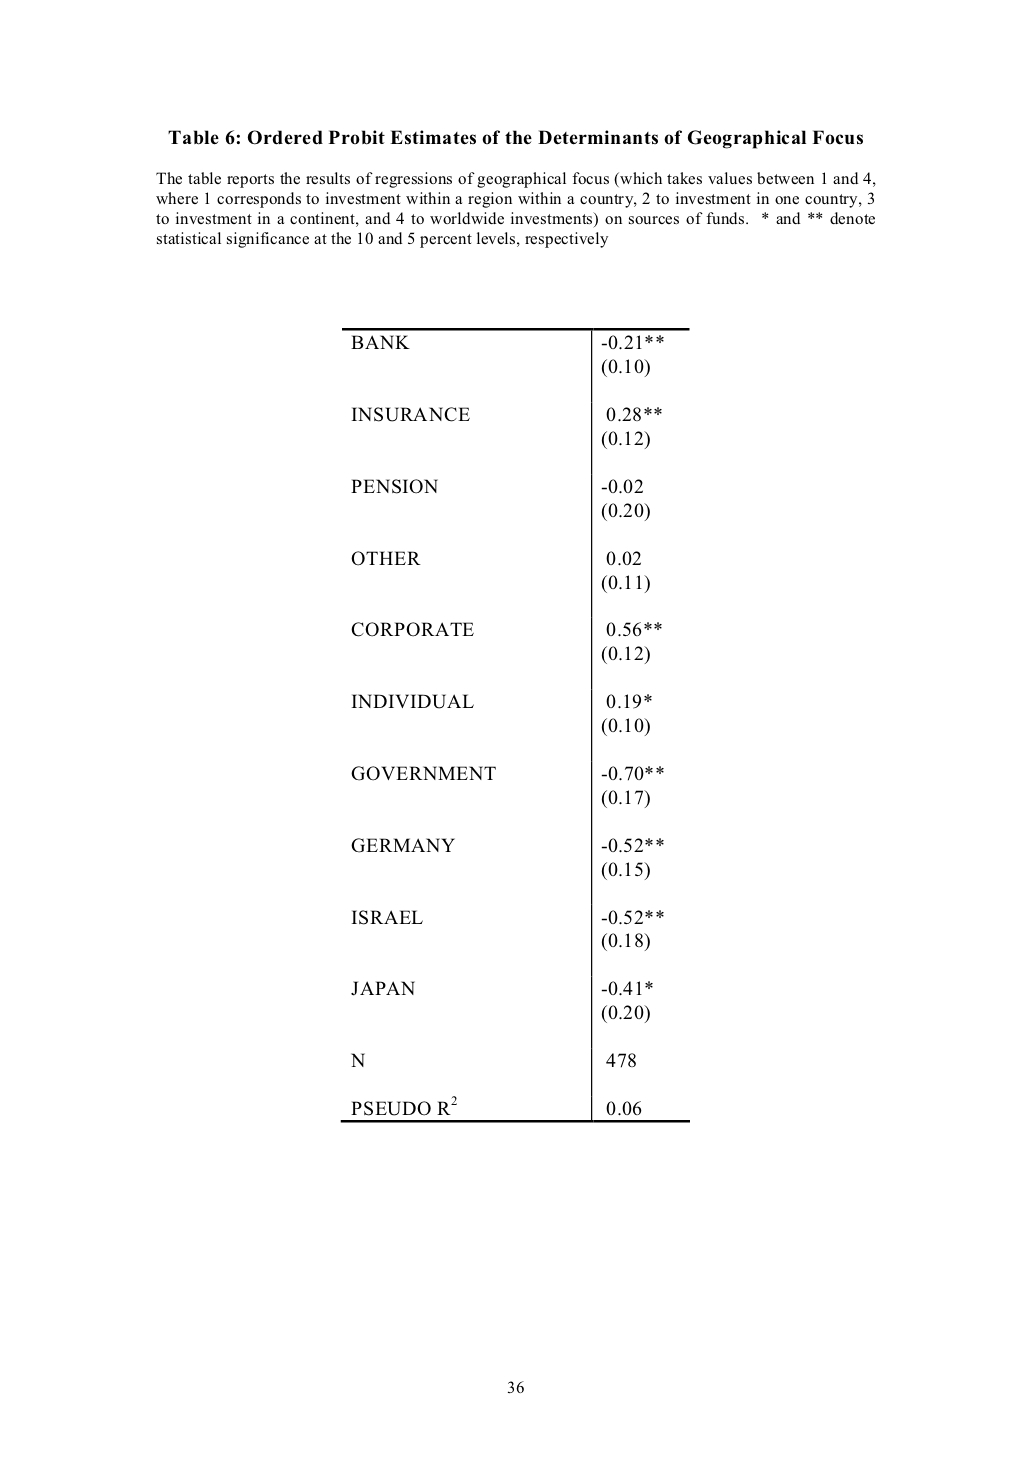Table: (340, 327, 688, 1123)
